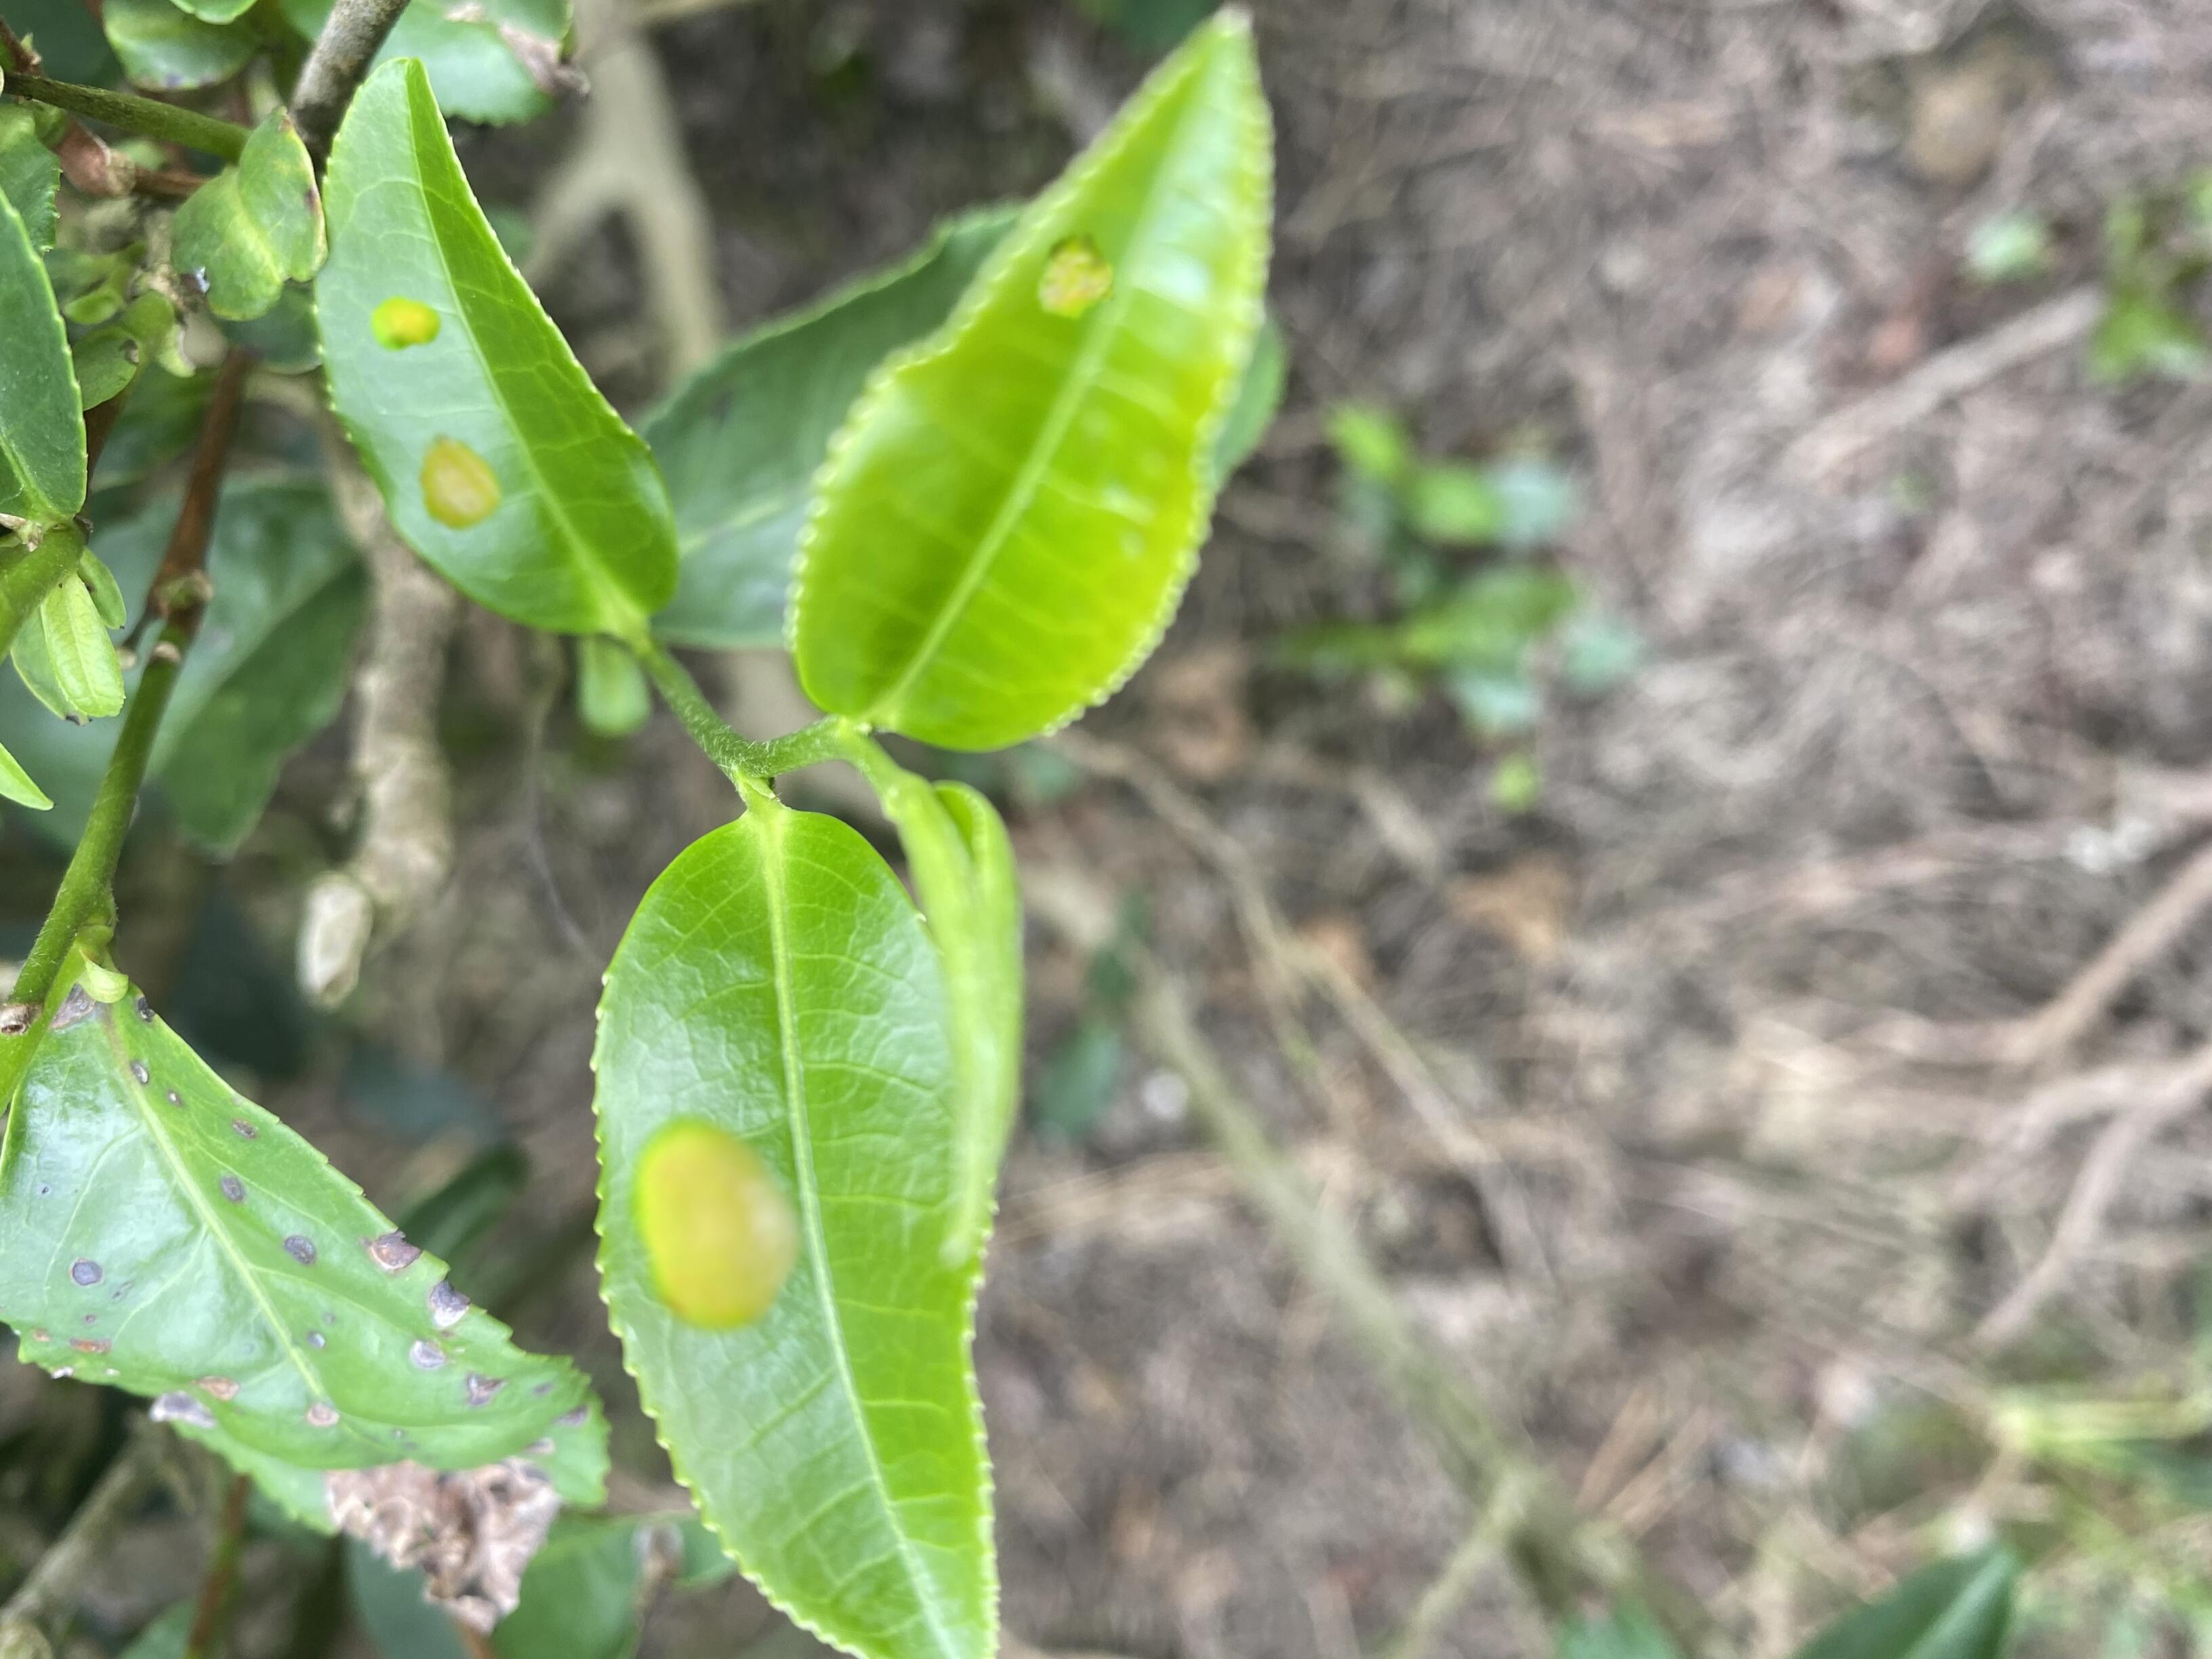chabing_high: (312, 56, 681, 641)
chabing_low: (782, 7, 1280, 758), (587, 807, 1008, 1656)
tanju_high: (5, 969, 611, 1631)
